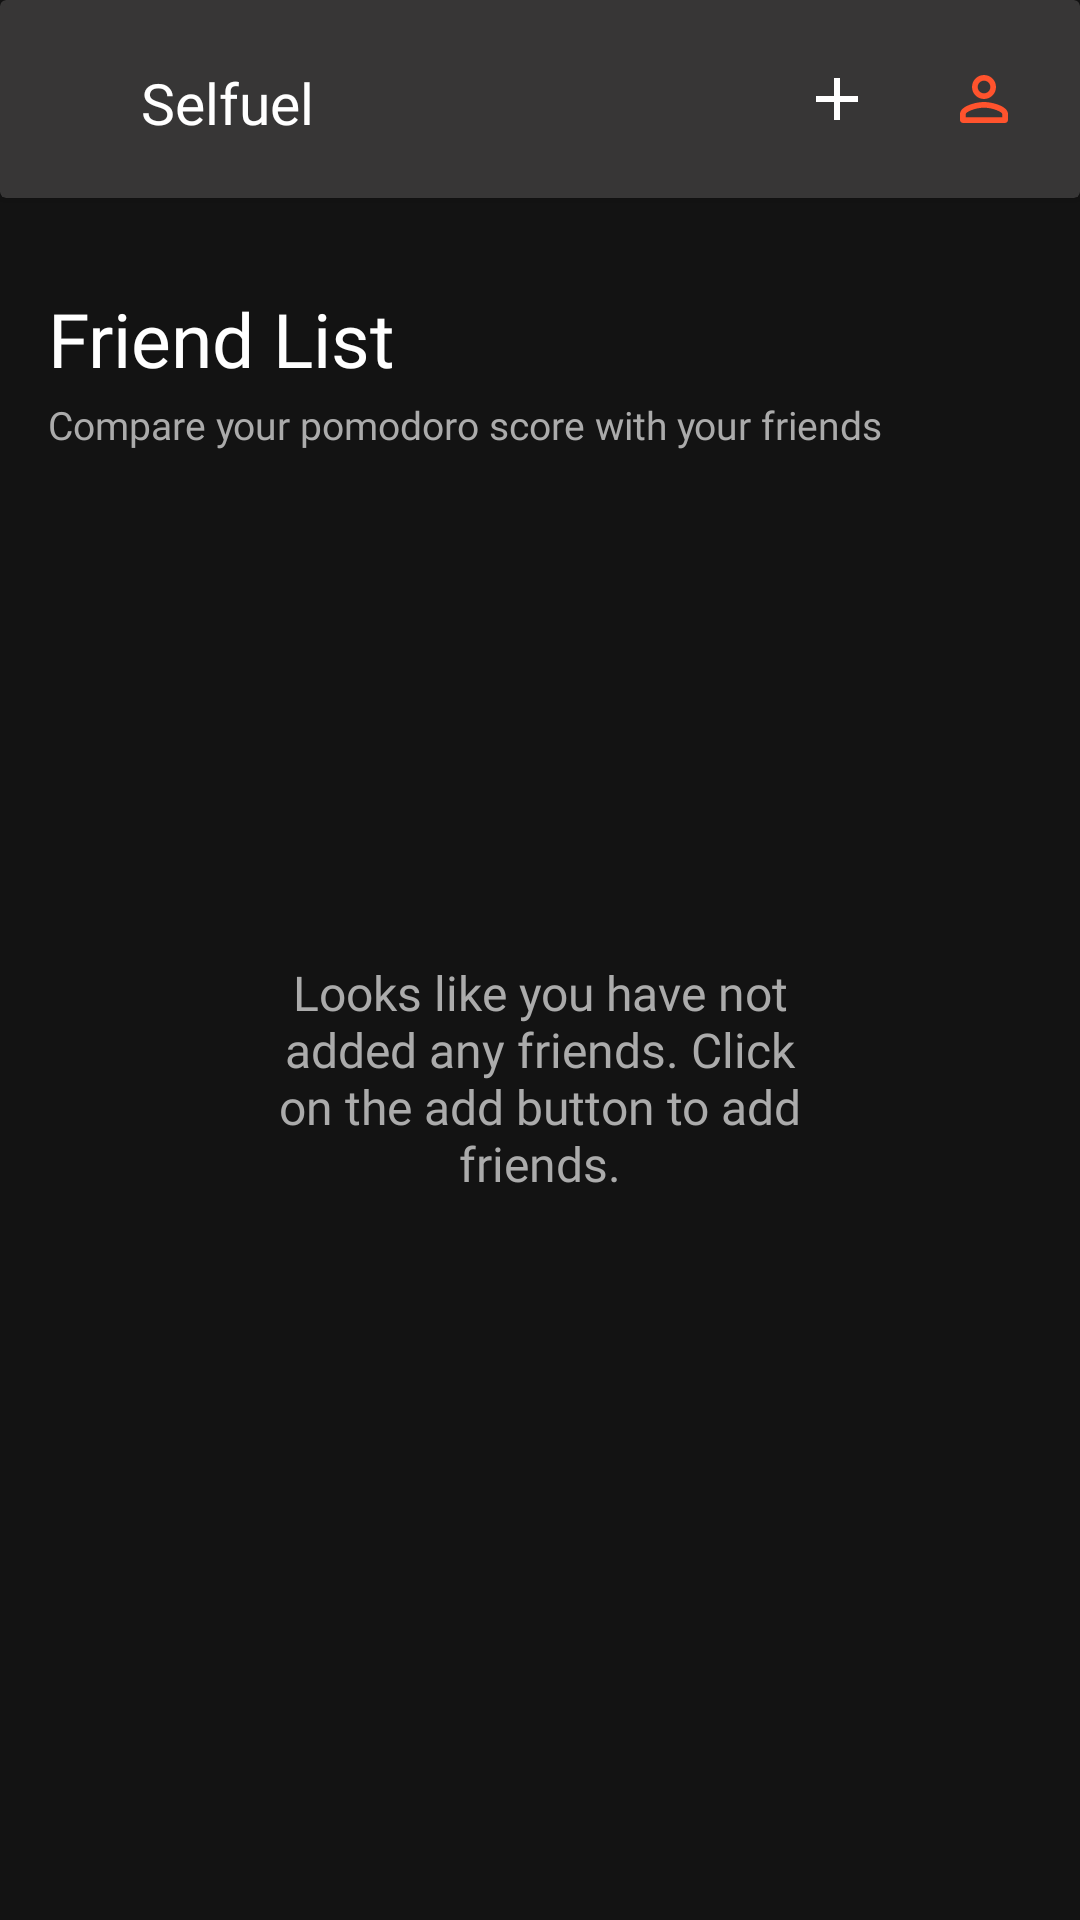

Icons on this 1080 x 1920 Android screen, each with the point to tap as [x,y]:
add: [837,99]
person: [984,99]
